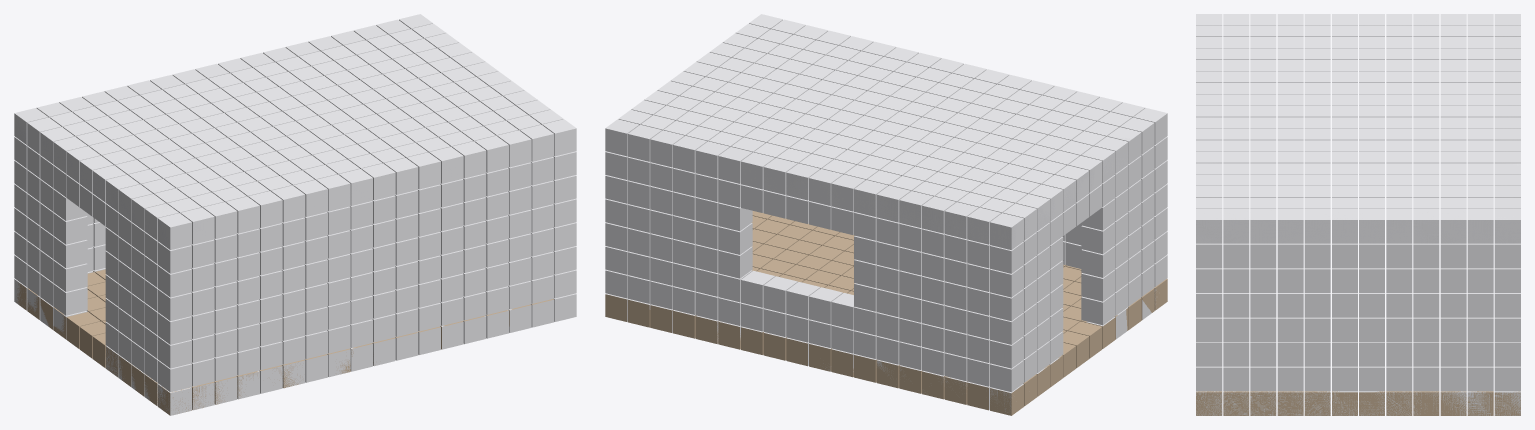
Rendered from full-room.fbx.
3 views of the same model, side by side, from view 1: azimuth 30°, elevation 25°; view 2: azimuth 150°, elevation 25°; view 3: azimuth 270°, elevation 25° (orthographic). The views are drawn at different scales.
Parts seen in each view (by area): view 1: Ceiling, Wall_South_Plain, Wall_West_Door, Wall_North_Window, Floor, Wall_East_Plain; view 2: Wall_North_Window, Ceiling, Wall_West_Door, Floor, Wall_South_Plain, Wall_East_Plain; view 3: Ceiling, Wall_East_Plain, Wall_North_Window, Floor, Wall_South_Plain.
Boxes of the visible parts, x1,y1,x2,y2 form: Ceiling: [14, 23, 576, 249]; Wall_South_Plain: [158, 132, 576, 415]; Wall_West_Door: [14, 117, 191, 414]; Wall_North_Window: [14, 14, 432, 310]; Floor: [16, 269, 553, 415]; Wall_East_Plain: [399, 19, 576, 321]; Wall_North_Window: [605, 119, 1023, 409]; Ceiling: [618, 14, 1167, 249]; Wall_West_Door: [990, 114, 1167, 414]; Floor: [605, 211, 1167, 415]; Wall_South_Plain: [753, 24, 1167, 304]; Wall_East_Plain: [605, 19, 782, 321]; Ceiling: [1196, 14, 1520, 243]; Wall_East_Plain: [1196, 209, 1520, 415]; Wall_North_Window: [1494, 14, 1520, 415]; Floor: [1196, 391, 1520, 415]; Wall_South_Plain: [1196, 25, 1222, 415].
Size of the model in its own units: 718 by 318 by 478.
